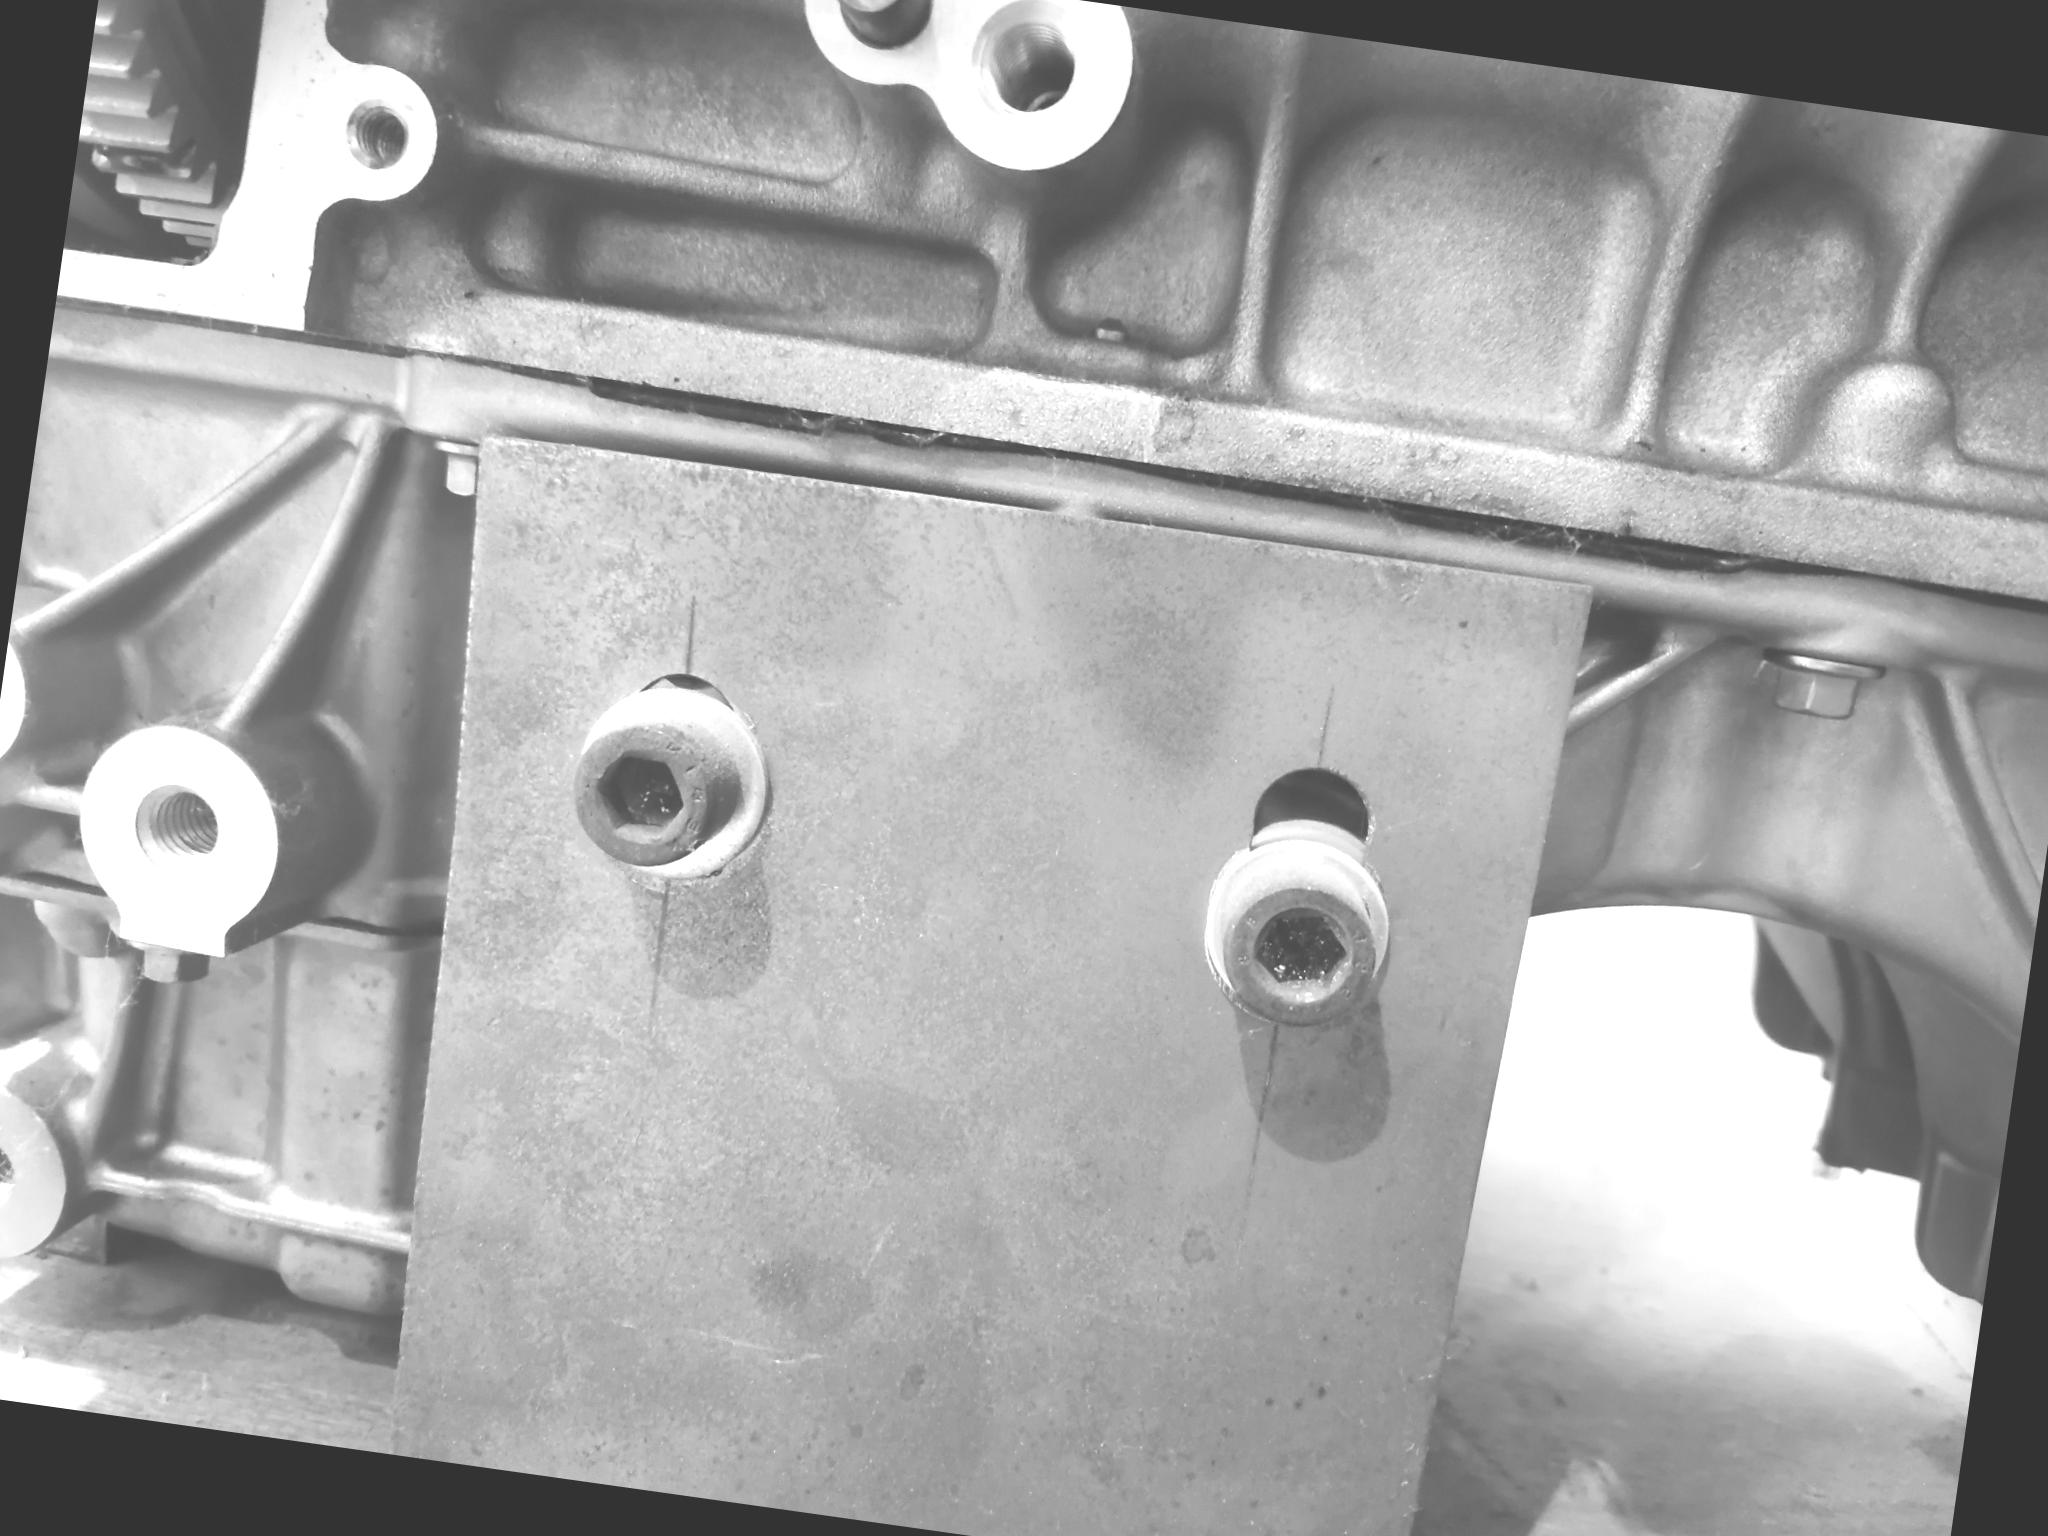screw: (1197, 852, 1403, 1046), (553, 694, 761, 884)
